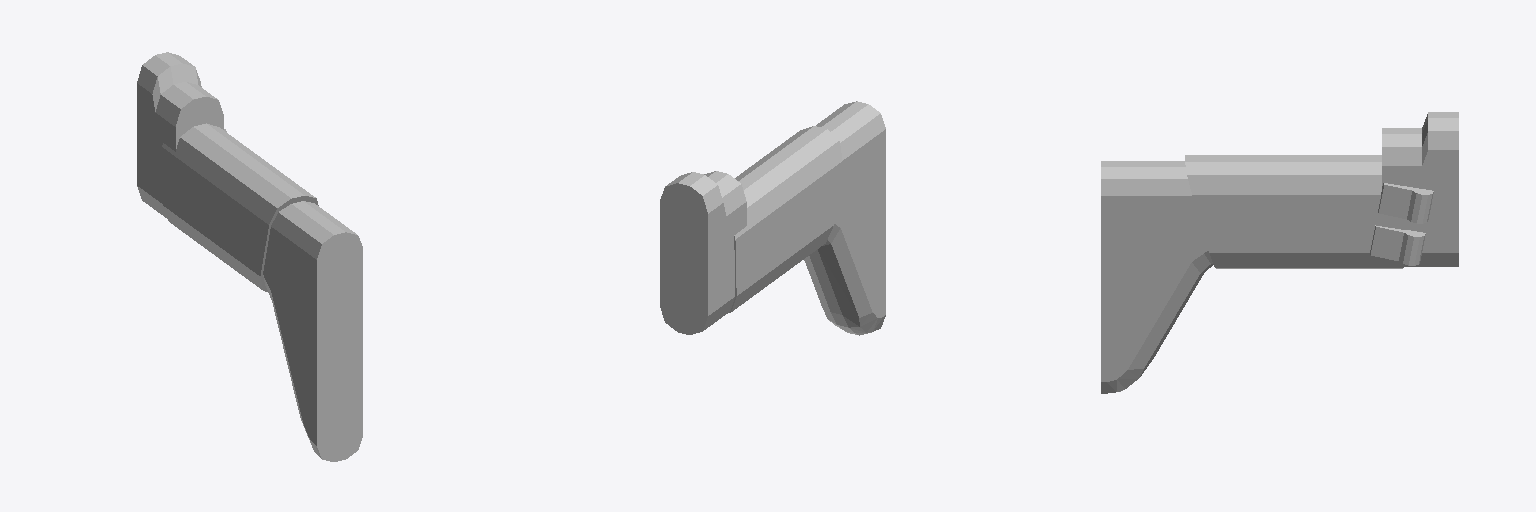
The model's file is Stock12.obj.
3 renders of one model, left to right at view 1: azimuth 30°, elevation 25°; view 2: azimuth 150°, elevation 25°; view 3: azimuth 270°, elevation 25°, orthographic.
Parts seen in each view (by area): view 1: Cube.007; view 2: Cube.007; view 3: Cube.007.
Part boxes in pixels (x1,y1,x2,y2): Cube.007: (137, 52, 362, 461); Cube.007: (660, 101, 885, 335); Cube.007: (1101, 112, 1458, 393).
Size of the model in its own units: 0.2083 by 0.8931 by 1.05.